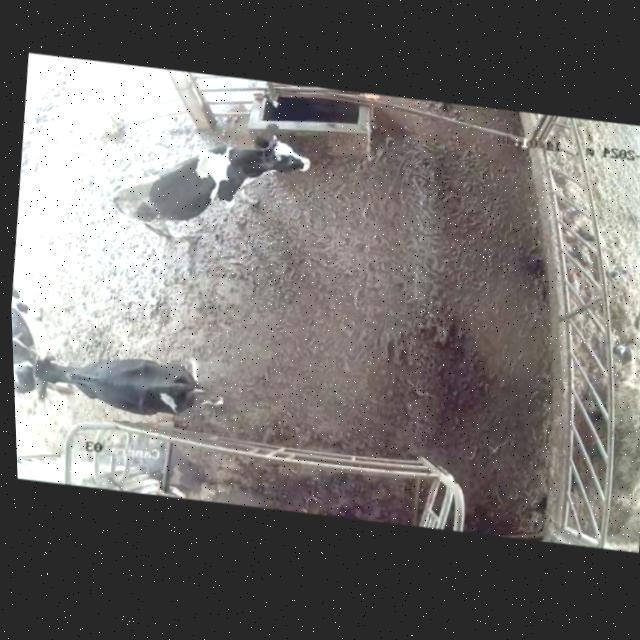stand: (91, 111, 314, 263), (28, 329, 210, 446), (8, 226, 55, 409)
